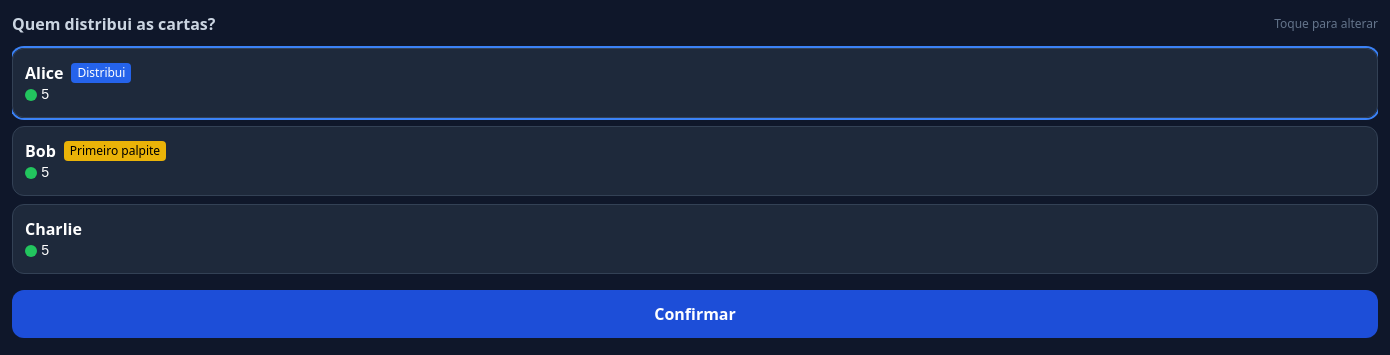
it: DealerSelectionStep › clicking a different player updates dealer badge in real time
Note: Click Charlie's row
Click the button "Charlie 5" at [695, 239], box left=12, top=204, right=1378, bottom=274
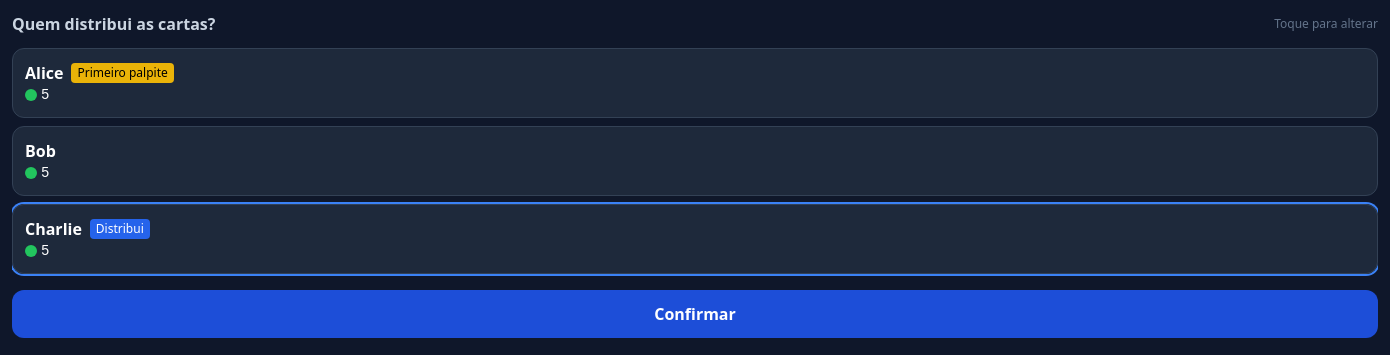
expect the text "Distribui" is shown: met, box left=90, top=219, right=150, bottom=239
expect the text "Primeiro palpite" is shown: met, box left=72, top=63, right=174, bottom=83
